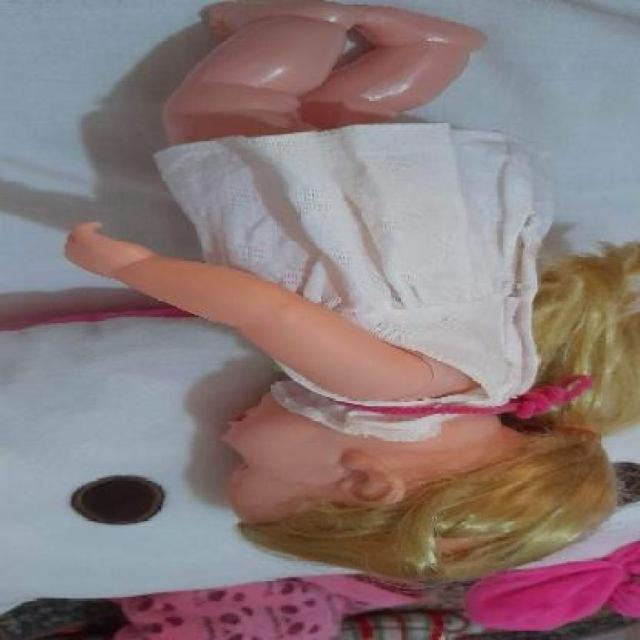non-dog: (63, 2, 640, 587)
